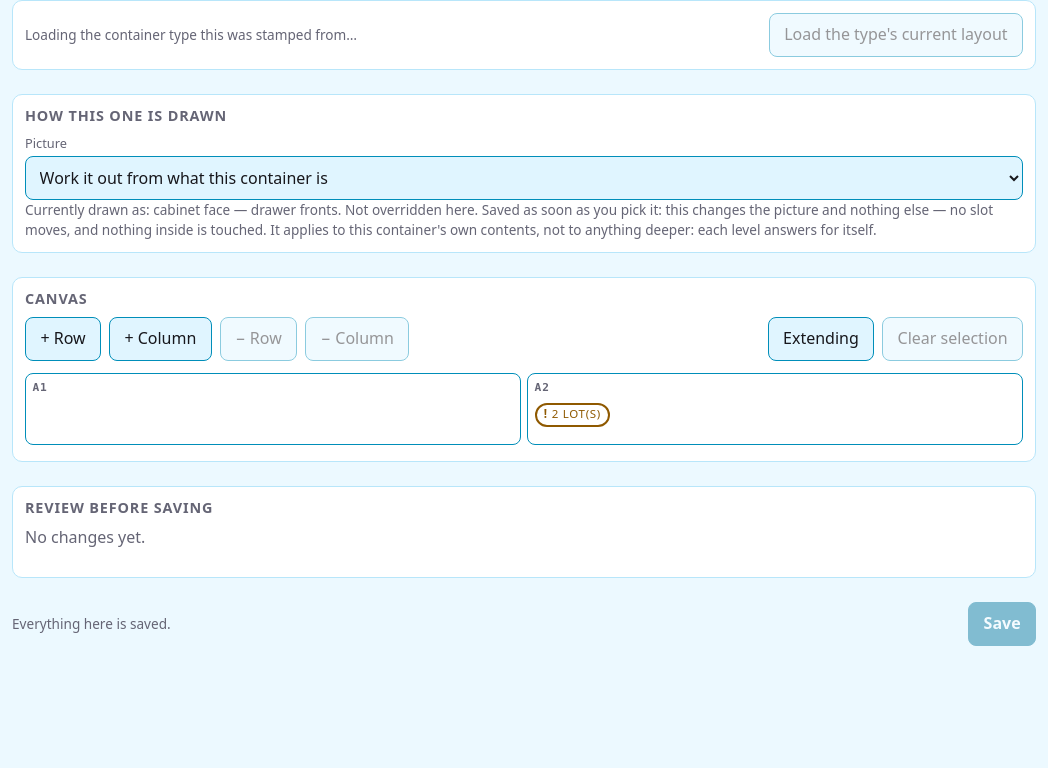
Scenario: how this one container is drawn › pins one, and reports back what it is now drawn as
Select "Grid — cells seen from above" in the dropdown labelled "Picture" at (524, 178), box [25,156,1023,200]
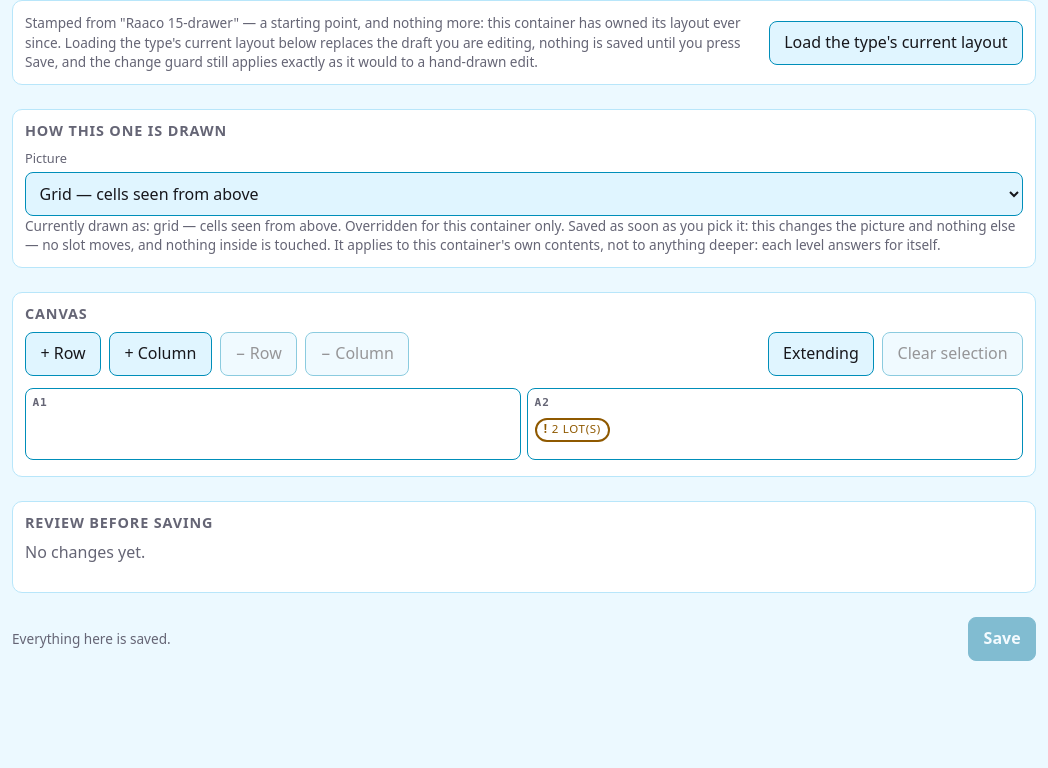
Result: the text "Overridden for this container only" is shown at [345,216,565,234]
Result: the text "Currently drawn as: grid" is shown at [25,216,1023,255]
